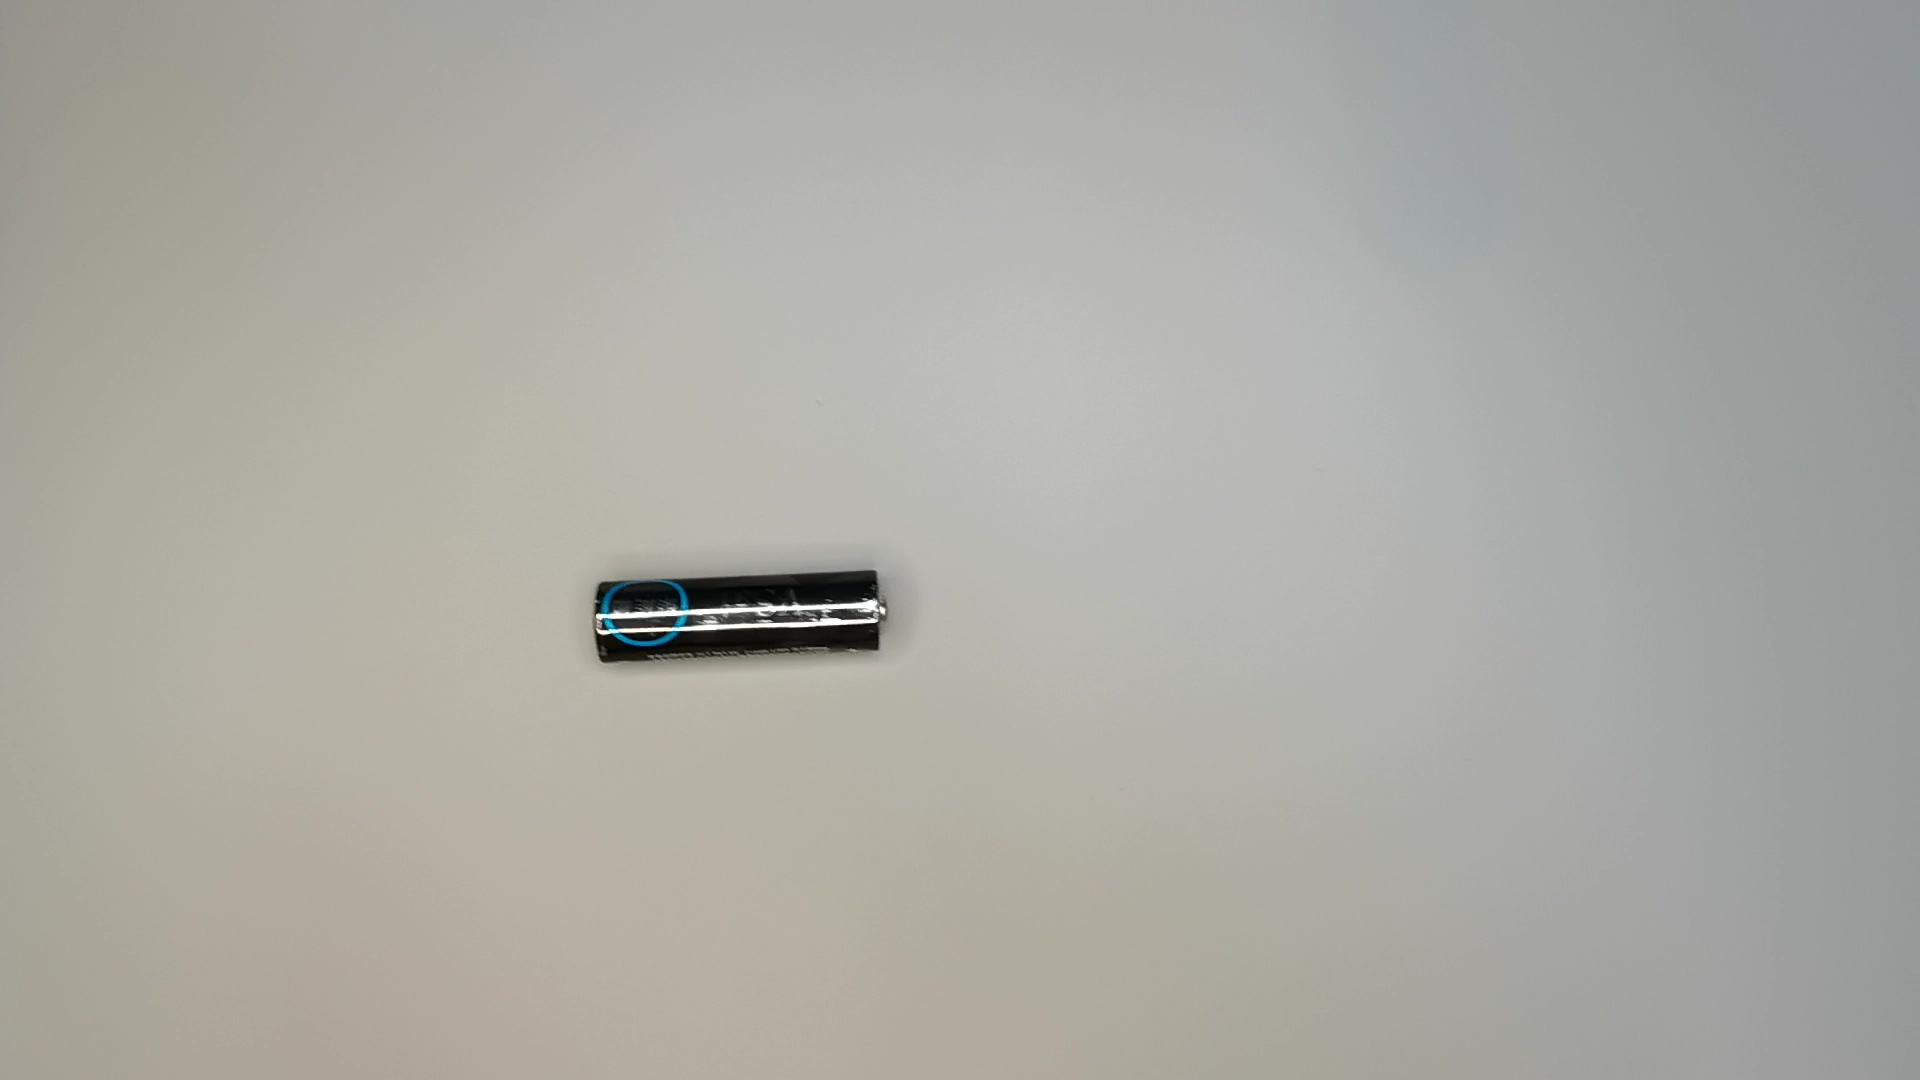battery: (585, 568, 897, 669)
